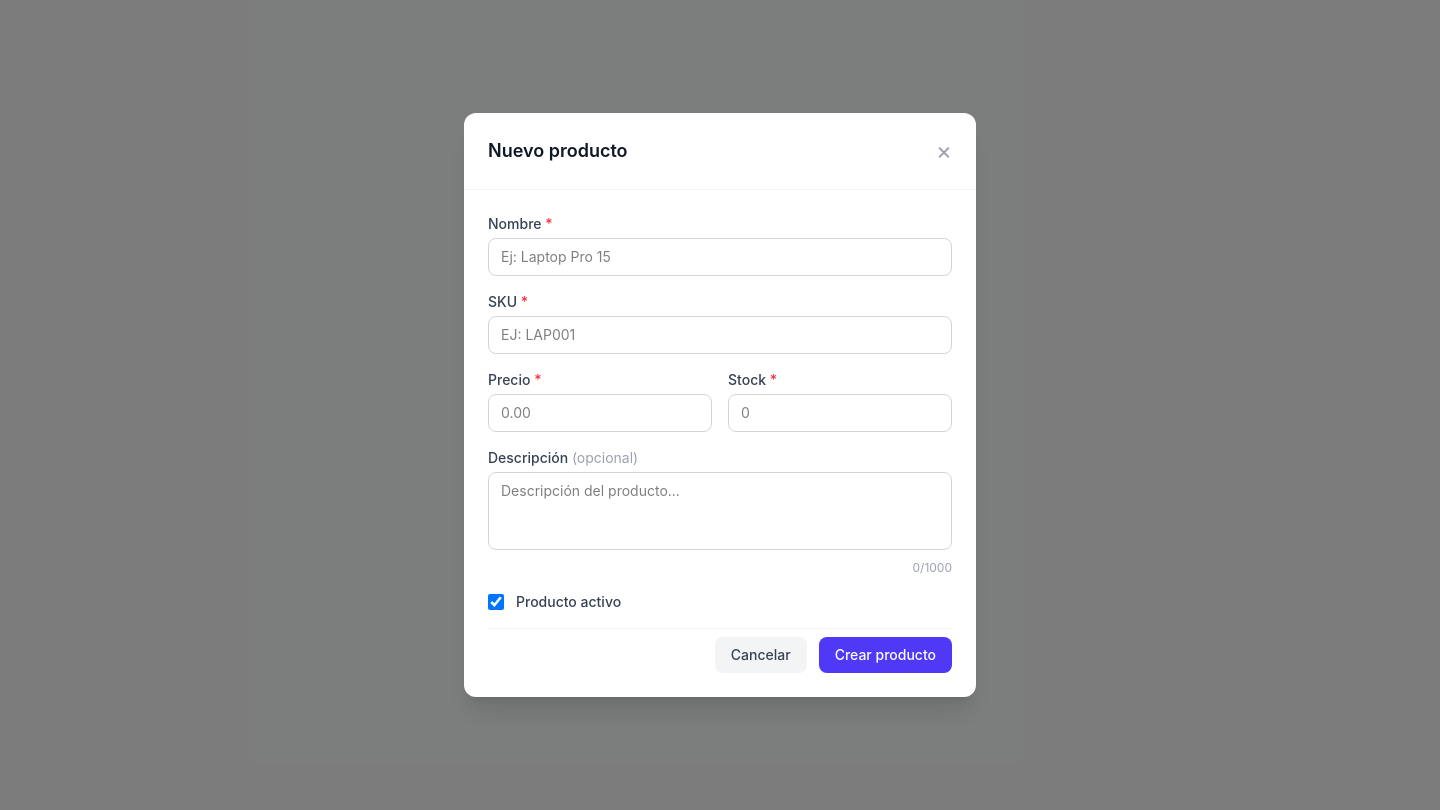
ProductForm › validation › shows error when name is empty
Click the button "Crear producto": (885,655) [819,637,952,673]
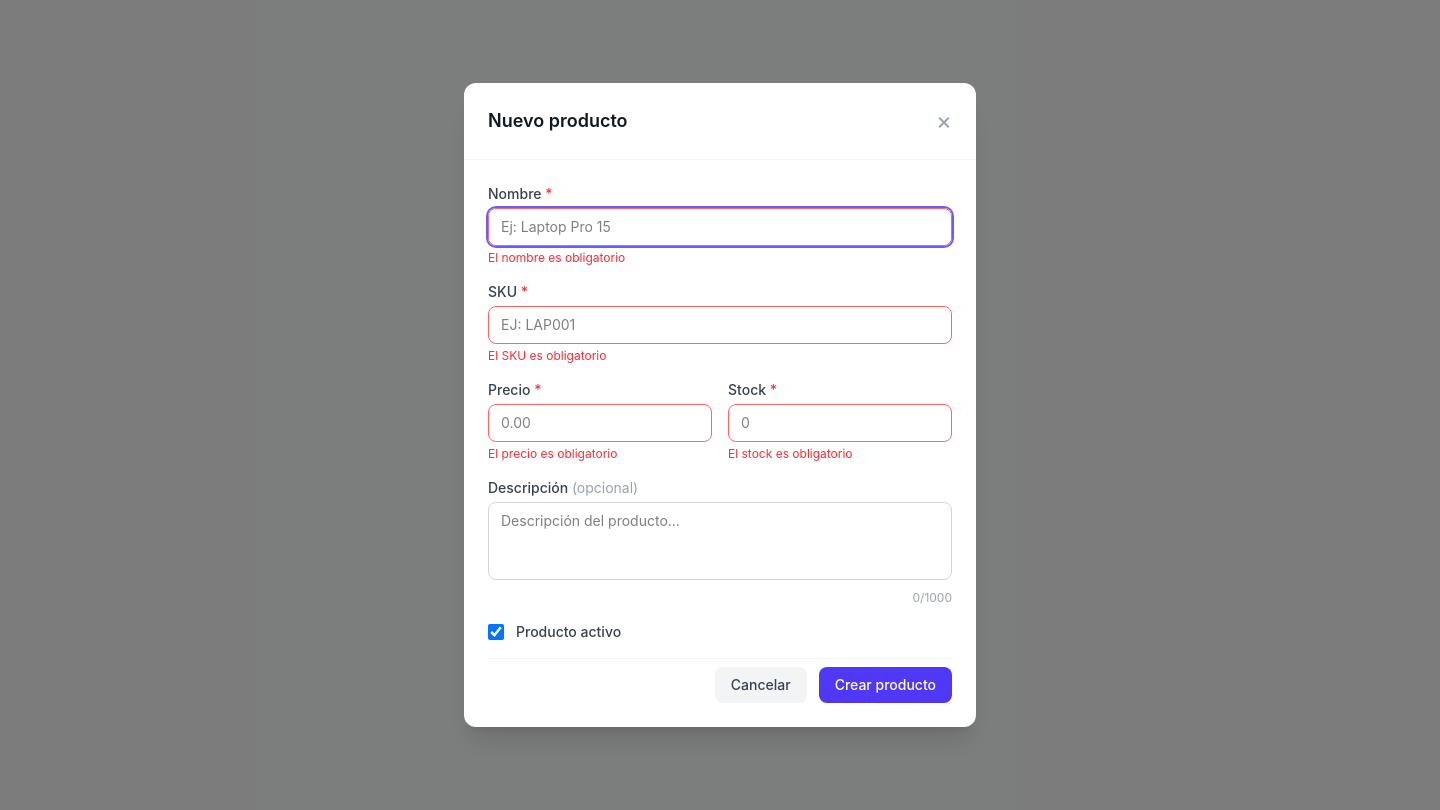
Now the text "El nombre es obligatorio" is shown, box [488,250,625,265]
